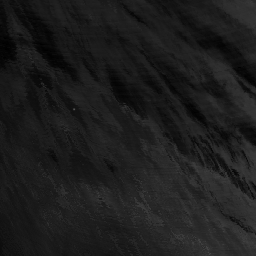Target: (71, 105, 76, 110)
